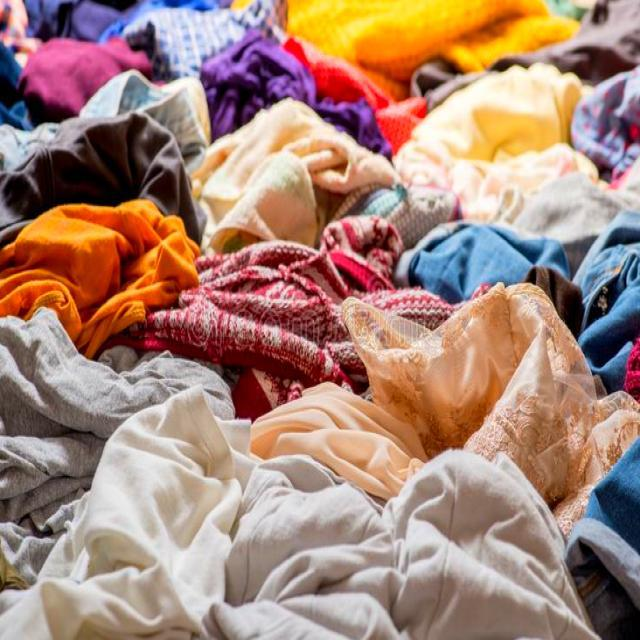clothes: (366, 286, 616, 512), (404, 107, 640, 324), (63, 396, 222, 640), (402, 430, 575, 640), (0, 321, 129, 519), (170, 236, 333, 391), (272, 0, 534, 96), (221, 495, 382, 640), (0, 213, 186, 329), (202, 108, 328, 278), (113, 0, 284, 96), (28, 44, 122, 128), (0, 2, 25, 136)
